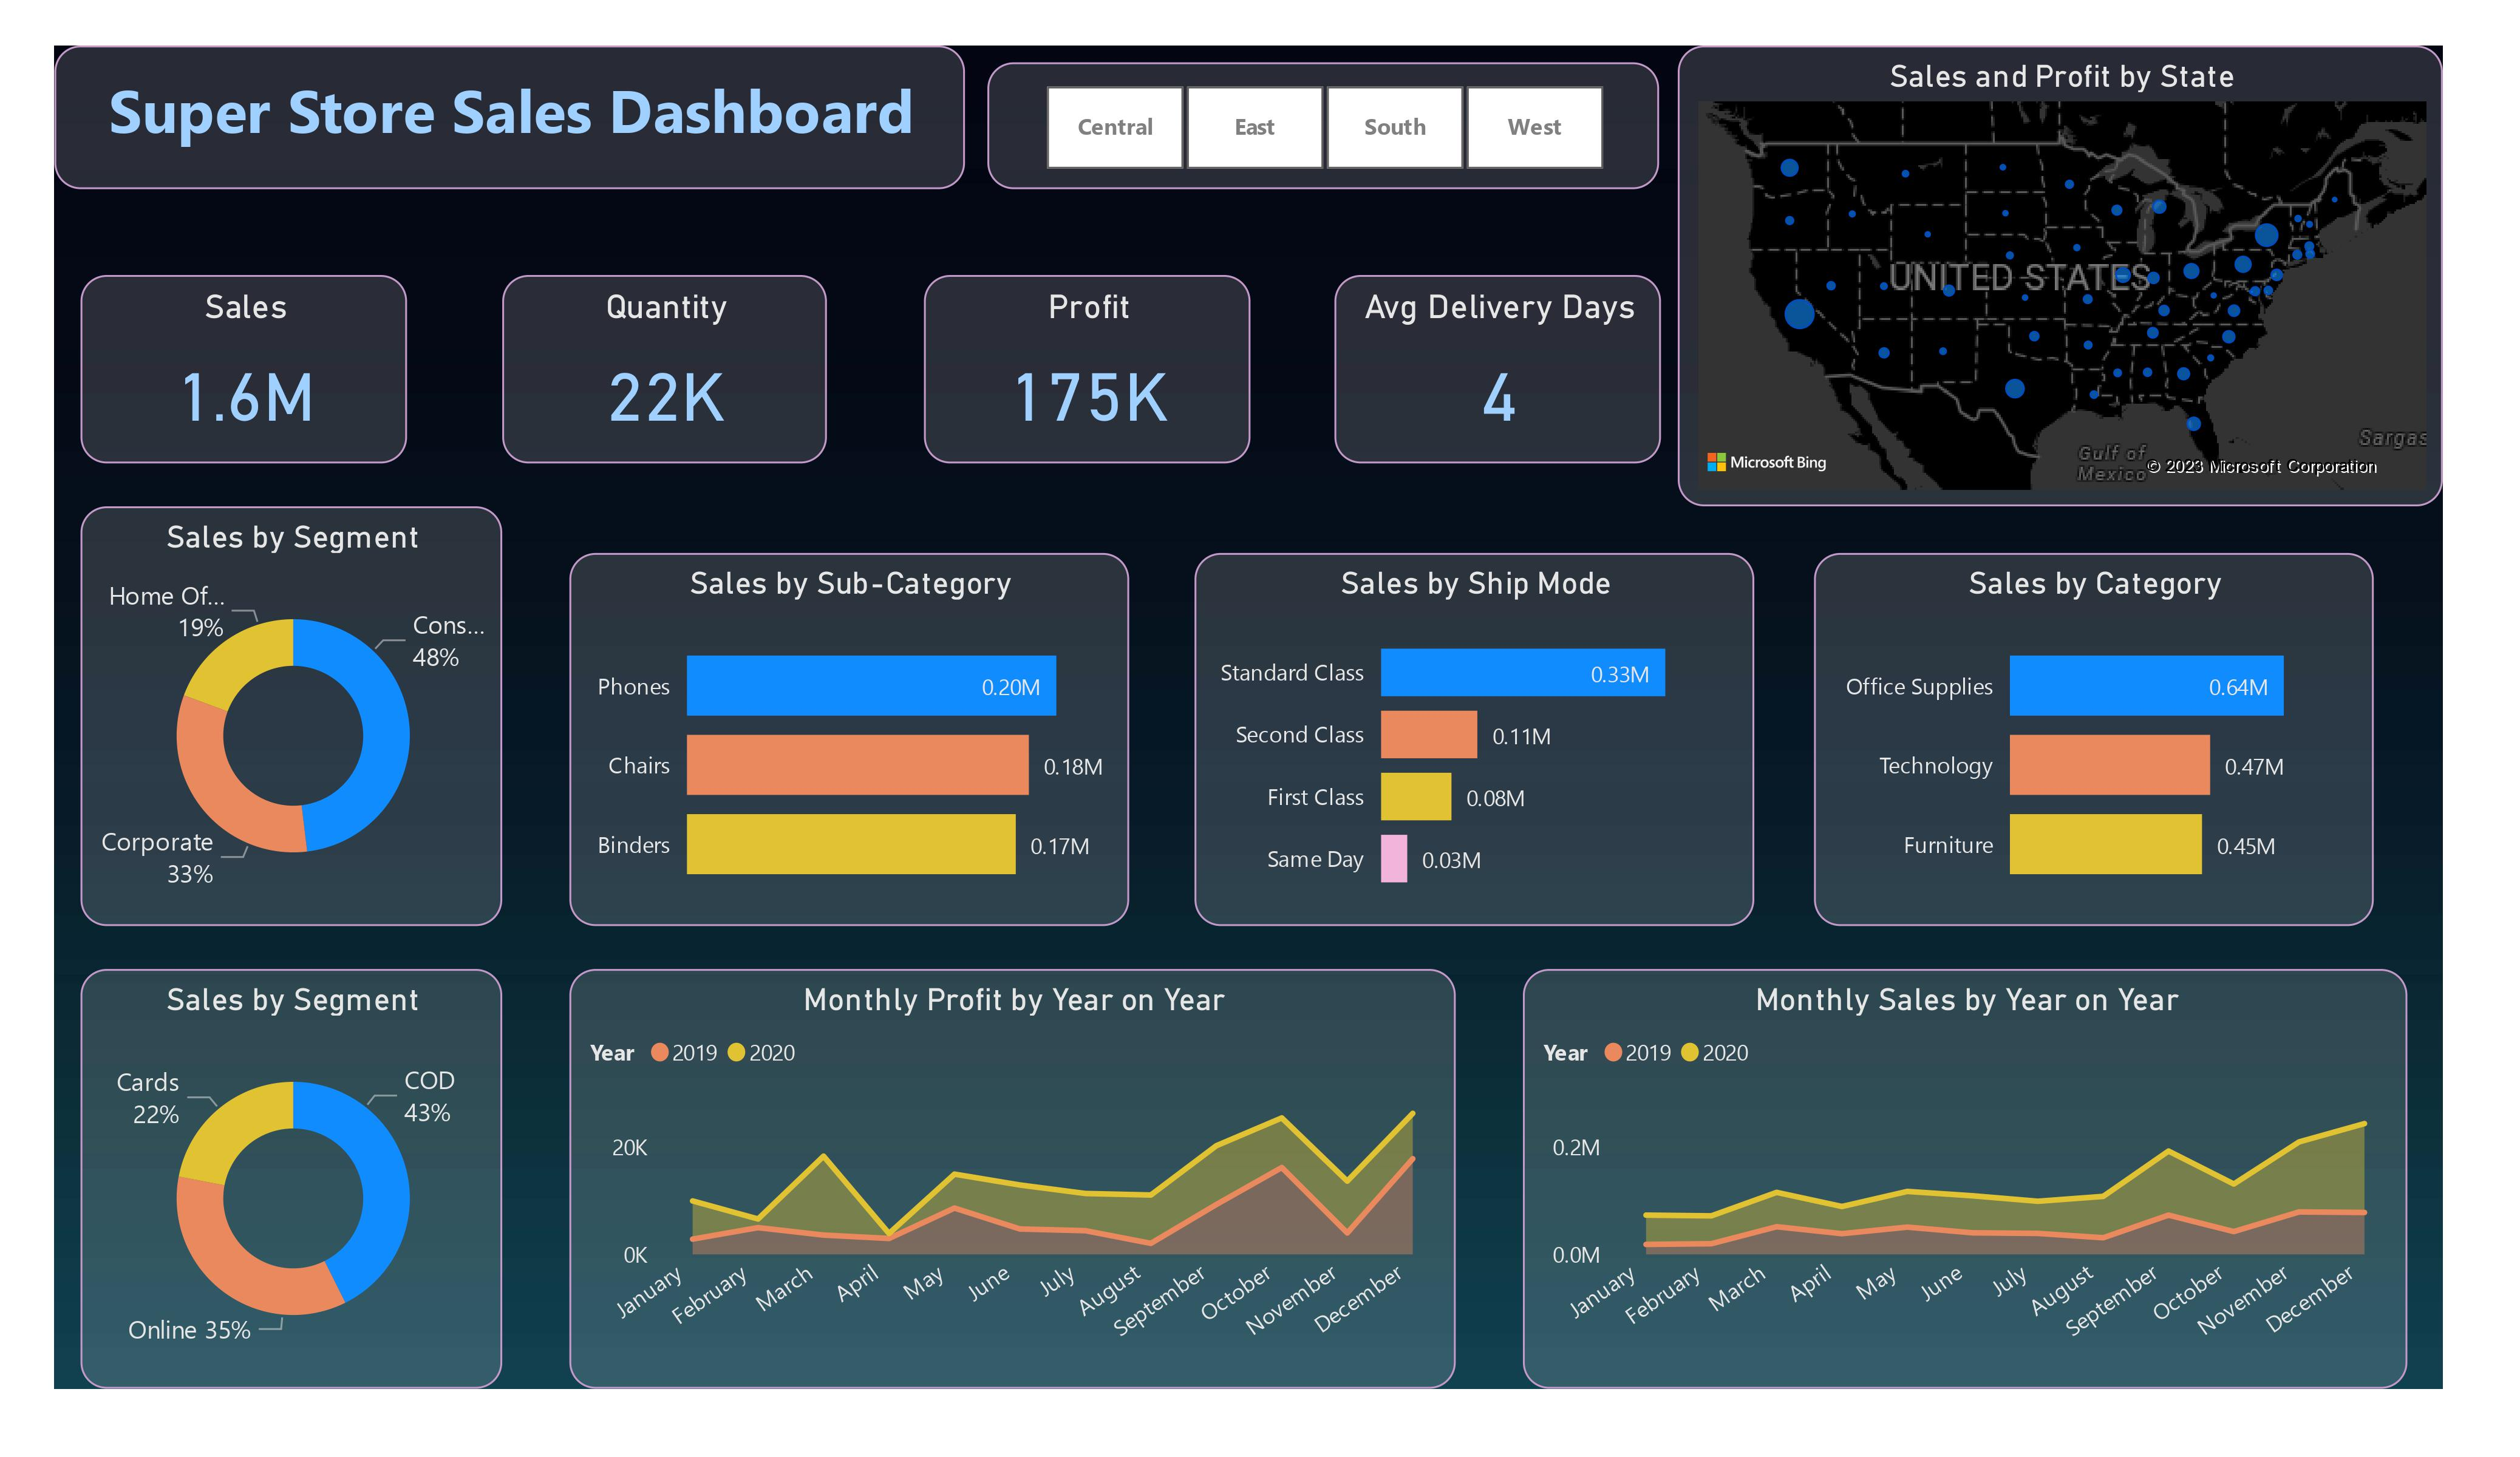

This screenshot's page, from the dashboard's own definition file:
{"tool":"powerbi","page":{"name":"Dashboard","canvas":[1280,720],"ordinal":0},"visuals":[{"type":"clusteredBarChart","title":"Sales by Category","fields":{"Category":["SuperStore_Sales_Dataset.Category"],"Y":["Sum(SuperStore_Sales_Dataset.Sales)"]},"box":[942.5,272.1,300,199.8],"z":0},{"type":"clusteredBarChart","title":"Sales by Sub-Category","fields":{"Category":["SuperStore_Sales_Dataset.Sub-Category"],"Y":["Sum(SuperStore_Sales_Dataset.Sales)"]},"box":[276.4,272.1,300,199.8],"z":1000},{"type":"clusteredBarChart","title":"Sales by Ship Mode","fields":{"Category":["SuperStore_Sales_Dataset.Ship Mode"],"Y":["Sum(SuperStore_Sales_Dataset.Sales)"]},"box":[610.9,272.1,300,199.8],"z":2000},{"type":"stackedAreaChart","title":"Monthly Sales by Year on Year","fields":{"Y":["Sum(SuperStore_Sales_Dataset.Sales)"],"Category":["SuperStore_Sales_Dataset.Order Date.Variation.Date Hierarchy.Month","SuperStore_Sales_Dataset.Order Date.Variation.Date Hierarchy.Day"],"Series":["SuperStore_Sales_Dataset.Order Date.Variation.Date Hierarchy.Year"]},"box":[786.6,494.6,474.8,225.4],"z":3000},{"type":"stackedAreaChart","title":"Monthly Profit by Year on Year","fields":{"Category":["SuperStore_Sales_Dataset.Order Date.Variation.Date Hierarchy.Month","SuperStore_Sales_Dataset.Order Date.Variation.Date Hierarchy.Day"],"Series":["SuperStore_Sales_Dataset.Order Date.Variation.Date Hierarchy.Year"],"Y":["Sum(SuperStore_Sales_Dataset.Profit)"]},"box":[276.4,494.6,474.8,225.4],"z":4000},{"type":"map","title":"Sales and Profit by State","fields":{"Category":["SuperStore_Sales_Dataset.State"],"Size":["Sum(SuperStore_Sales_Dataset.Sales)"]},"box":[870.2,0,409.6,246.6],"z":5000},{"type":"donutChart","title":"Sales by Segment","fields":{"Category":["SuperStore_Sales_Dataset.Segment"],"Y":["Sum(SuperStore_Sales_Dataset.Sales)"]},"box":[14.2,246.6,225.4,225.4],"z":6000},{"type":"donutChart","title":"Sales by Segment","fields":{"Category":["SuperStore_Sales_Dataset.Payment Mode"],"Y":["Sum(SuperStore_Sales_Dataset.Sales)"]},"box":[14.2,494.6,225.4,225.4],"z":7000},{"type":"slicer","fields":{"Values":["SuperStore_Sales_Dataset.Region"]},"box":[500.3,8.5,360,68],"z":8000},{"type":"textbox","box":[0,0,487.6,76.5],"z":9000},{"type":"card","title":"Sales","fields":{"Values":["Sum(SuperStore_Sales_Dataset.Sales)"]},"box":[14.2,123.3,174.3,100.6],"z":10000},{"type":"card","title":"Quantity","fields":{"Values":["Sum(SuperStore_Sales_Dataset.Quantity)"]},"box":[239.5,123.3,174.3,100.6],"z":11000},{"type":"card","title":"Profit","fields":{"Values":["Sum(SuperStore_Sales_Dataset.Profit)"]},"box":[466.3,123.3,174.3,100.6],"z":12000},{"type":"card","title":"Avg Delivery Days","fields":{"Values":["Avg(SuperStore_Sales_Dataset.AvgDelivery)"]},"box":[686,123.3,175,100.6],"z":13000}]}

Visuals, with their boxes in screenshot pixels (x1, y1, x2, y2):
"Sales by Category" clusteredBarChart: box=[1834, 562, 2403, 941]
"Sales by Sub-Category" clusteredBarChart: box=[570, 562, 1139, 941]
"Sales by Ship Mode" clusteredBarChart: box=[1205, 562, 1774, 941]
"Monthly Sales by Year on Year" stackedAreaChart: box=[1538, 984, 2439, 1411]
"Monthly Profit by Year on Year" stackedAreaChart: box=[570, 984, 1471, 1411]
"Sales and Profit by State" map: box=[1697, 46, 2474, 514]
"Sales by Segment" donutChart: box=[72, 514, 500, 941]
"Sales by Segment" donutChart: box=[72, 984, 500, 1411]
slicer - SuperStore_Sales_Dataset.Region: box=[995, 62, 1678, 191]
textbox: box=[46, 46, 971, 191]
"Sales" card: box=[72, 279, 403, 470]
"Quantity" card: box=[500, 279, 831, 470]
"Profit" card: box=[930, 279, 1261, 470]
"Avg Delivery Days" card: box=[1347, 279, 1680, 470]
